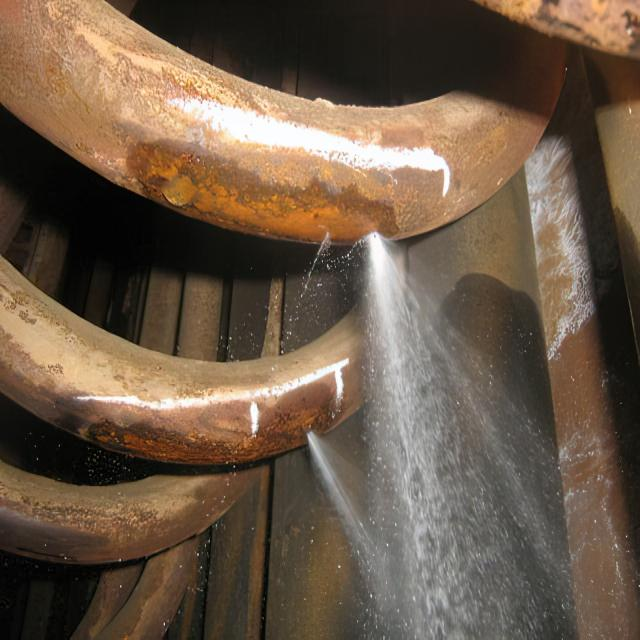leak: (309, 235, 575, 638)
